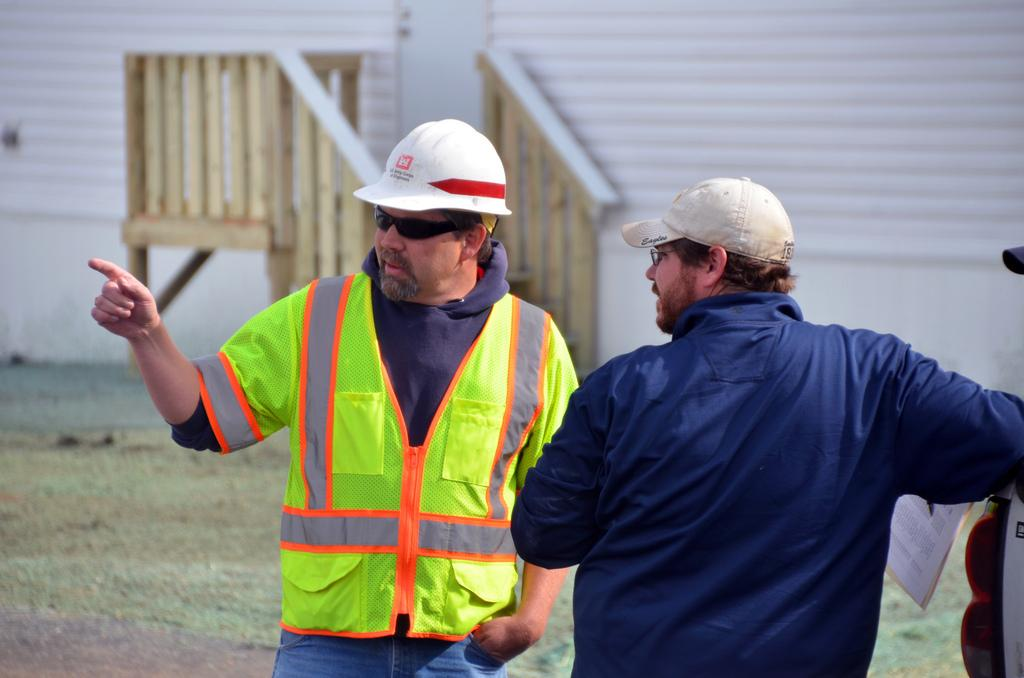Hat: (621, 170, 789, 262)
